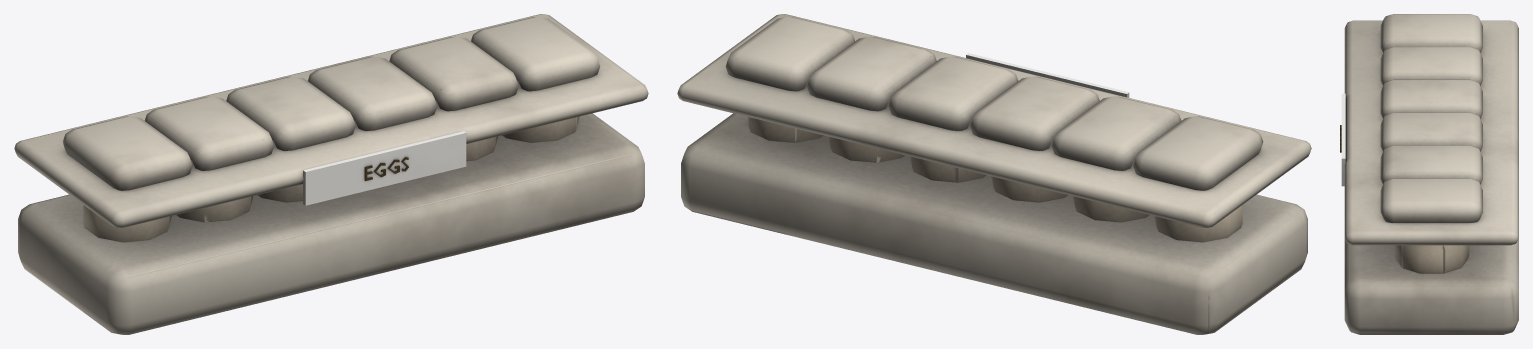
The model's file is egg_carton.fbx.
3 renders of one model, left to right at view 1: azimuth 30°, elevation 25°; view 2: azimuth 150°, elevation 25°; view 3: azimuth 270°, elevation 25°, orthographic. The views are drawn at different scales.
Visible parts, largest first — view 1: Lid, Body; view 2: Body, Lid; view 3: Lid, Body.
Part boxes in pixels (x1,y1,x2,y2): Lid: (14, 14, 648, 227); Body: (18, 113, 644, 334); Body: (681, 113, 1307, 334); Lid: (677, 14, 1311, 227); Lid: (1340, 14, 1518, 245); Body: (1344, 238, 1518, 334).
Size of the model in its own units: 1 by 0.27 by 0.349.
Materials: 1 (1 with a texture image).
